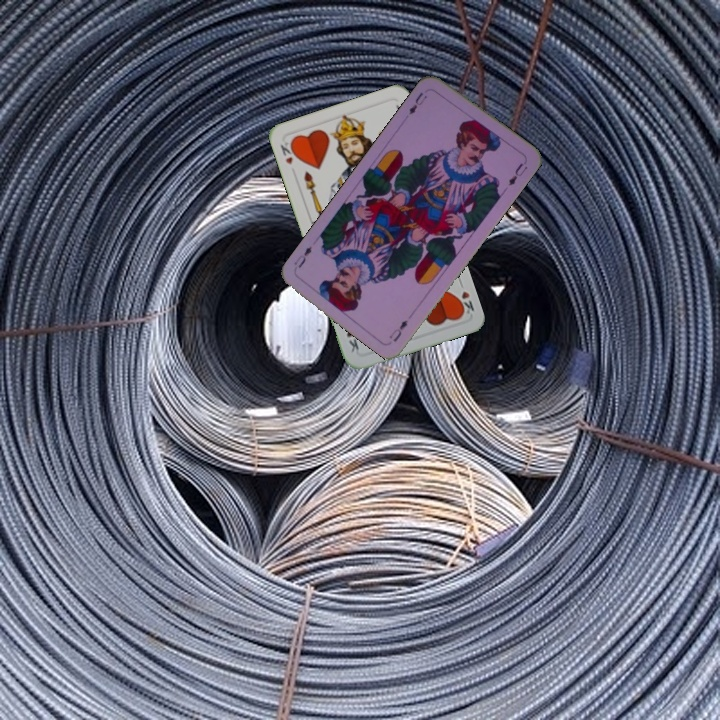EU: (404, 88, 430, 117), (385, 316, 411, 345)
HK: (452, 277, 477, 317), (276, 137, 299, 167)
